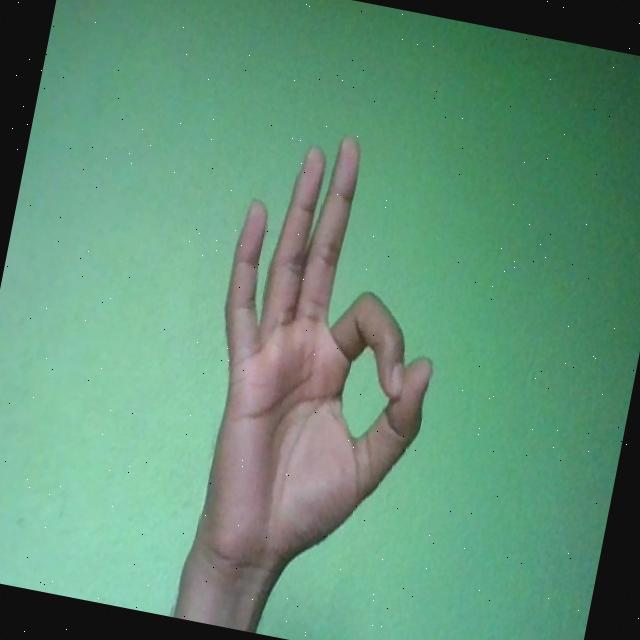Rock On: (175, 115, 474, 604)
